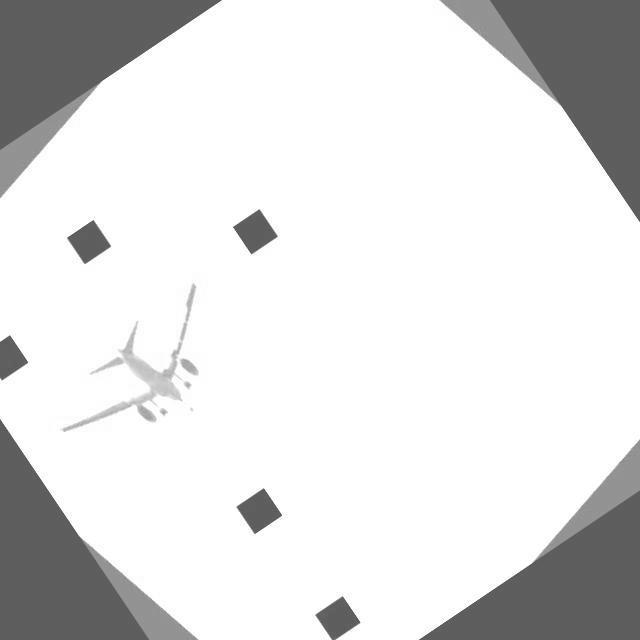aeroplane: (29, 276, 258, 483)
